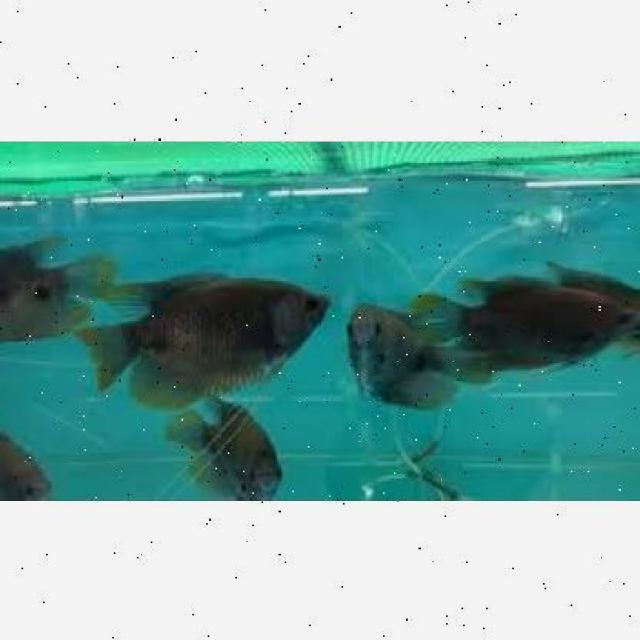gurame: (89, 268, 334, 402), (432, 274, 630, 380), (166, 403, 305, 499)
